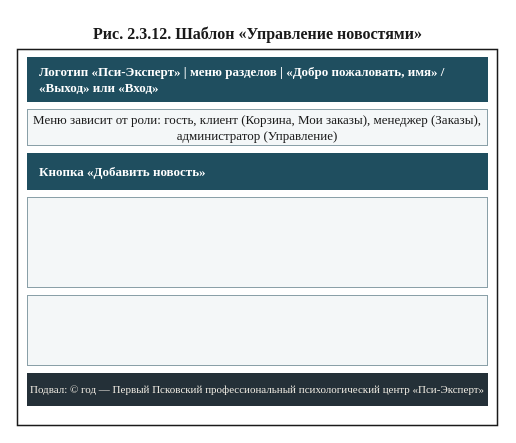
This 516x443 diagram has some shape labels left out. The centre of each missing label's shape, as x and y in pixels:
Таблица: заголовок, дата, «Изменить», «Удалить»: the point at 257,242
Форма: заголовок, краткий текст, полный текст, изображение (multipart): the point at 257,330
